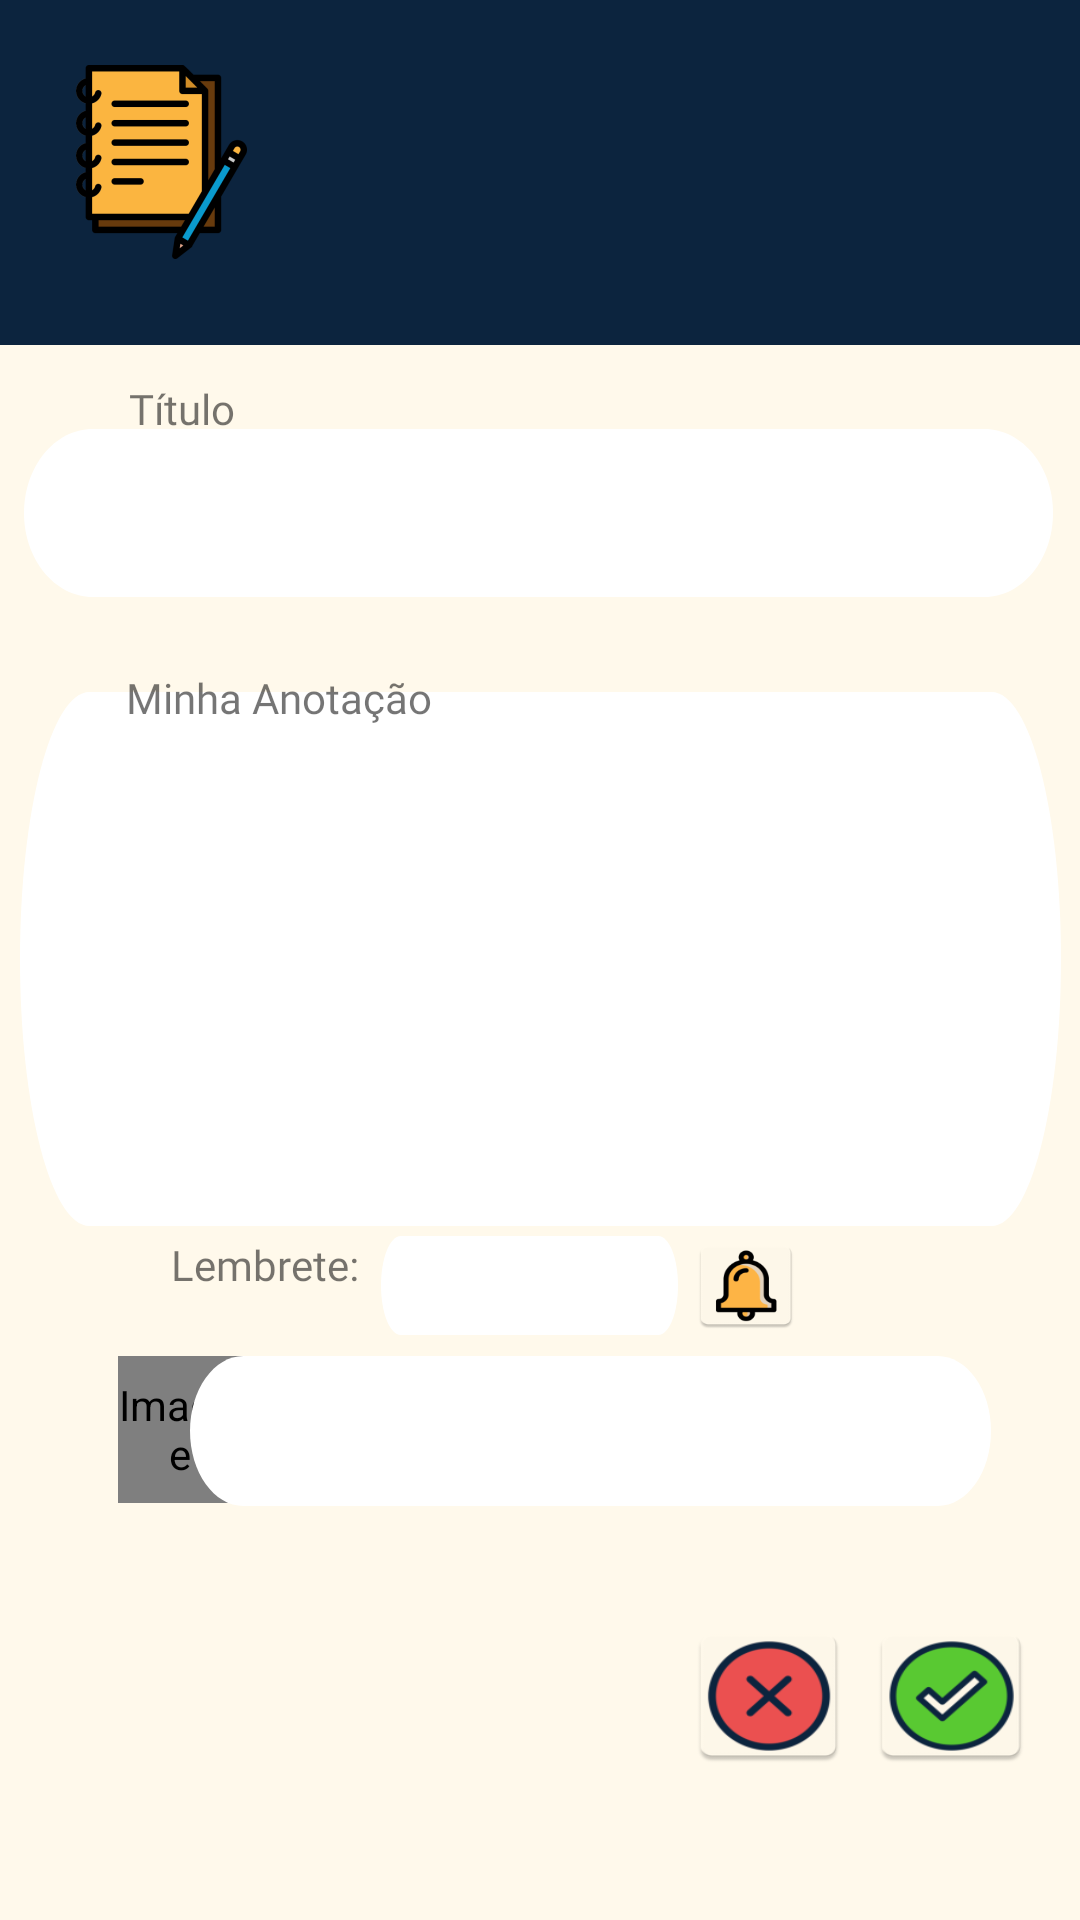

Icons on this 1080*1920 Android screen, each with its box as (x1, y1, x2, y2):
check: (882, 1641, 1021, 1760)
notification: (701, 1250, 792, 1327)
quit: (701, 1641, 837, 1760)
